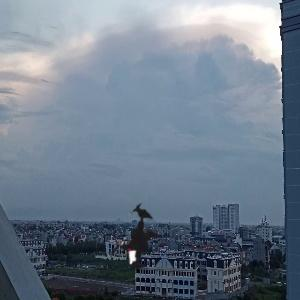drone: (84, 188, 184, 288)
